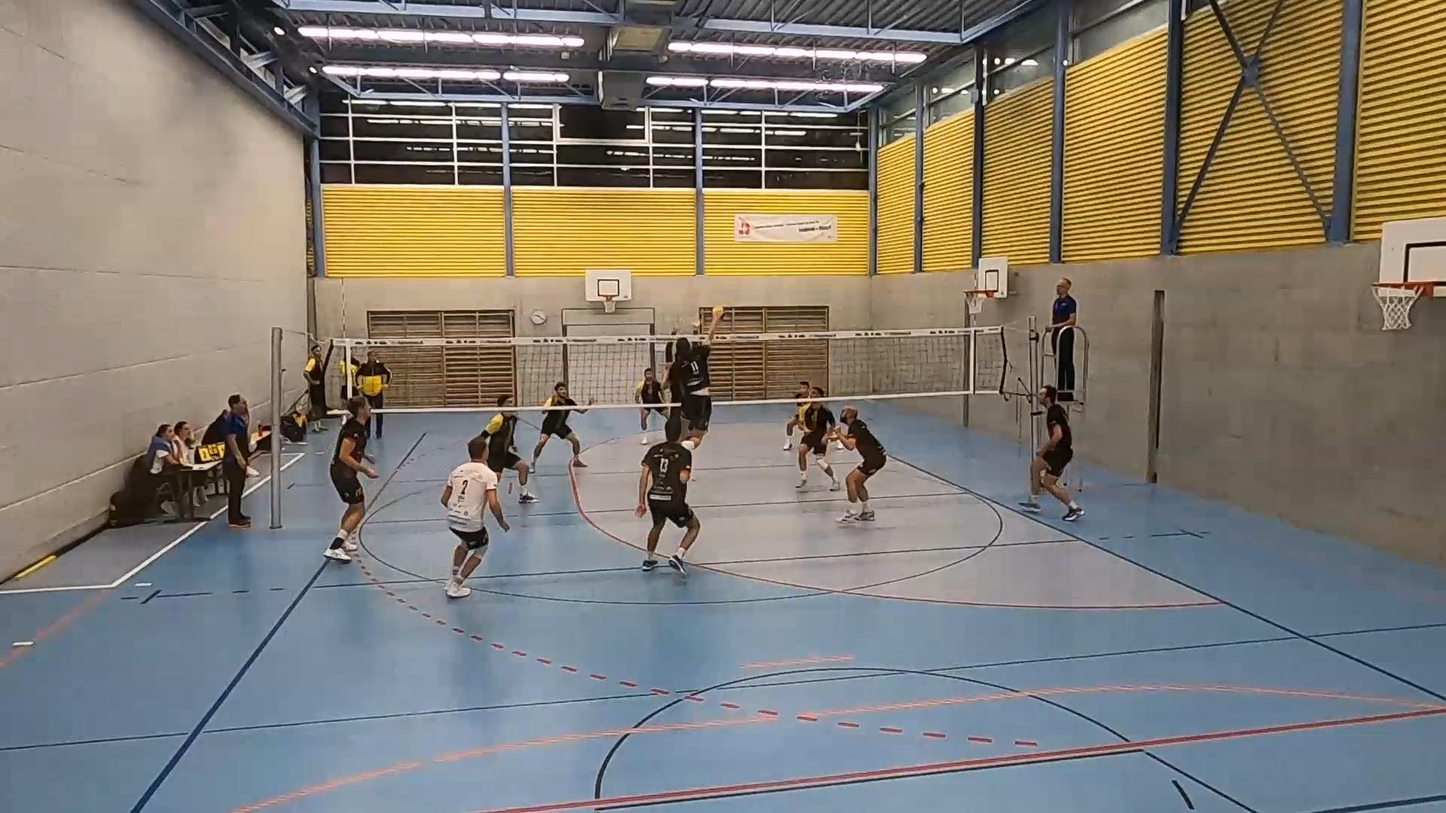Attack: (664, 310, 721, 457)
Block: (660, 309, 706, 342)
Player: (441, 436, 509, 598), (636, 419, 700, 577), (324, 396, 377, 562), (1020, 385, 1084, 521), (831, 407, 886, 523), (479, 394, 536, 503), (796, 388, 840, 490), (532, 409, 586, 467), (635, 368, 667, 444), (783, 381, 810, 451), (664, 340, 685, 421)
